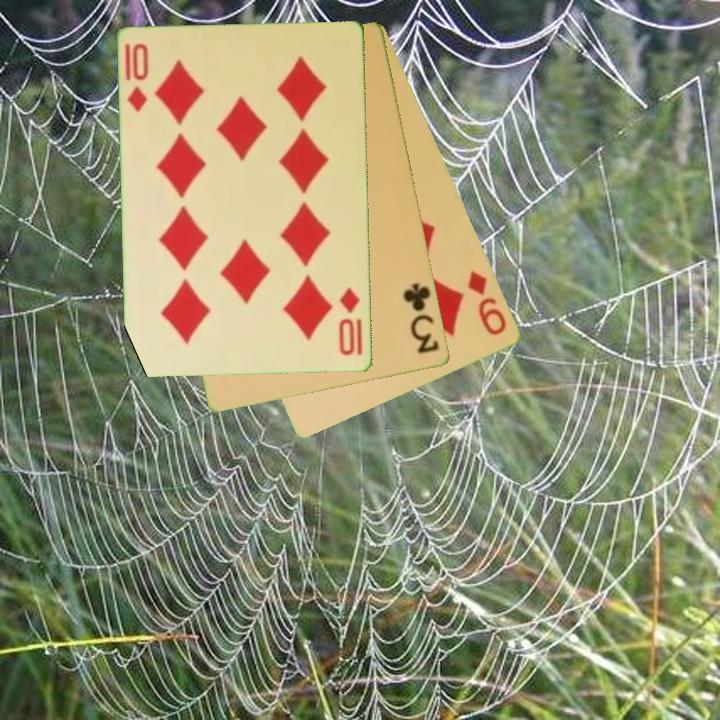10d: (124, 40, 152, 115), (335, 284, 363, 358)
3c: (400, 279, 443, 357)
9d: (464, 266, 510, 339)
